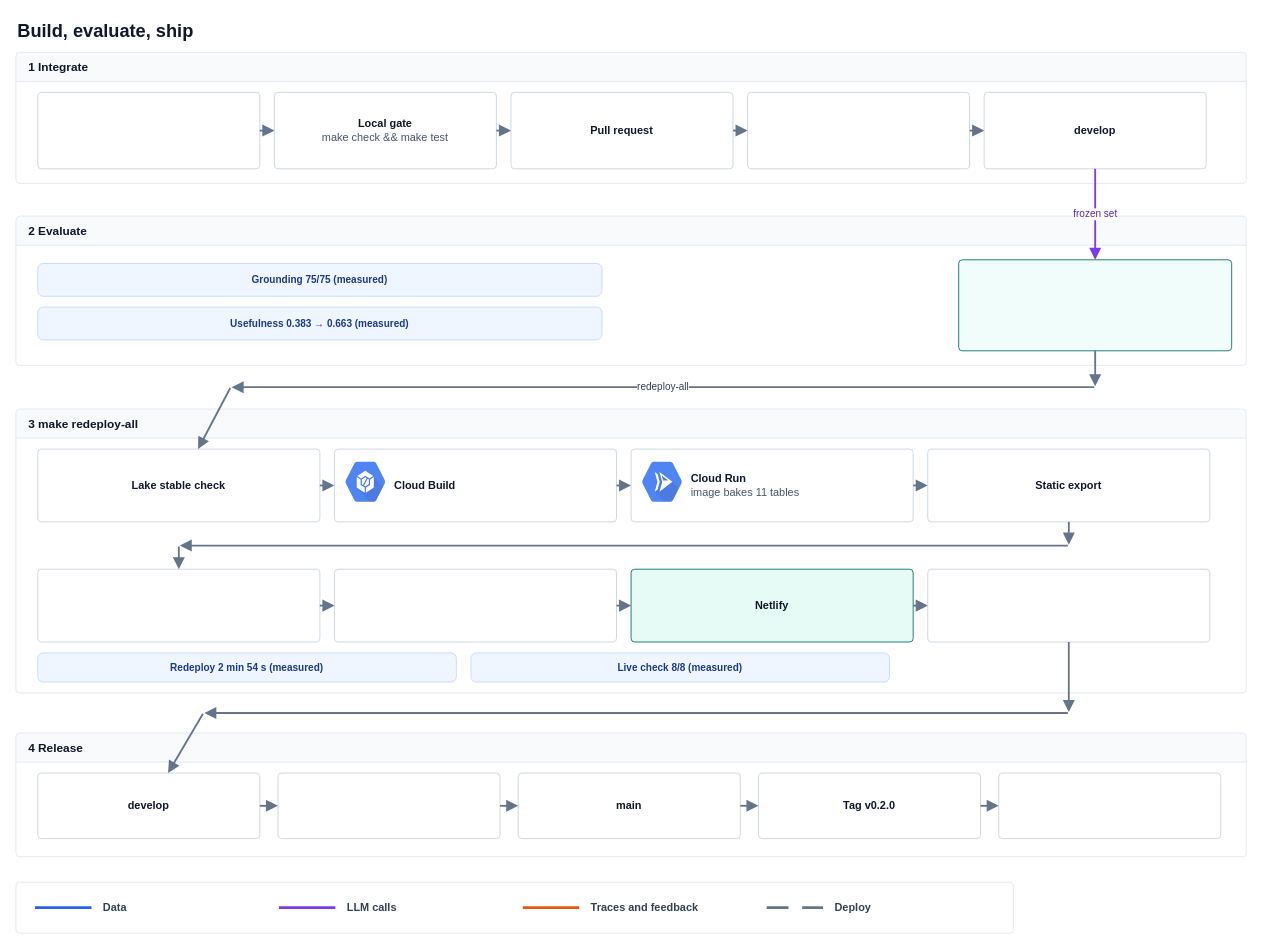
Some shapes in this 1262 by 949 pixel diagram are drawn without their labels. Each missing label, with the centre of its shape:
demo-check: (1068,605)
Executors in worktrees: (148,130)
GitHub release: (1109,805)
Graph views: (178,605)
LangSmith eval Frozen 25 questions × 3 Compared with the last experiment: (1095,305)
One CI job: (858,130)
Release PR: (388,805)
Web build: (475,605)
